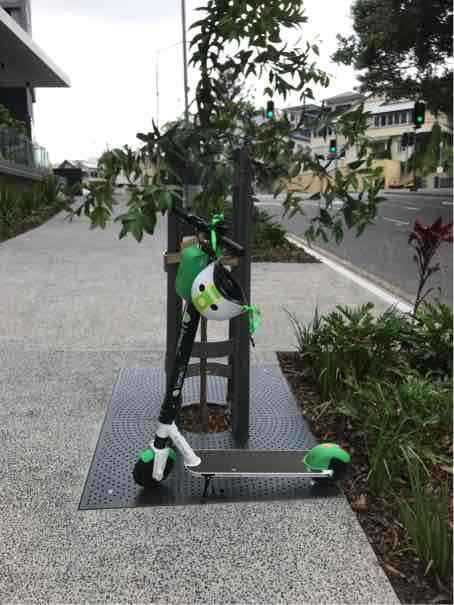scooter: (131, 206, 365, 506)
